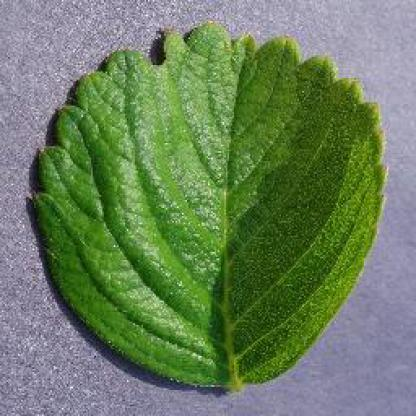healthy: (24, 16, 395, 403)
